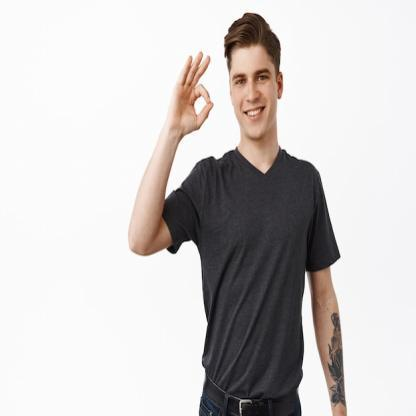ok: (168, 48, 214, 140)
